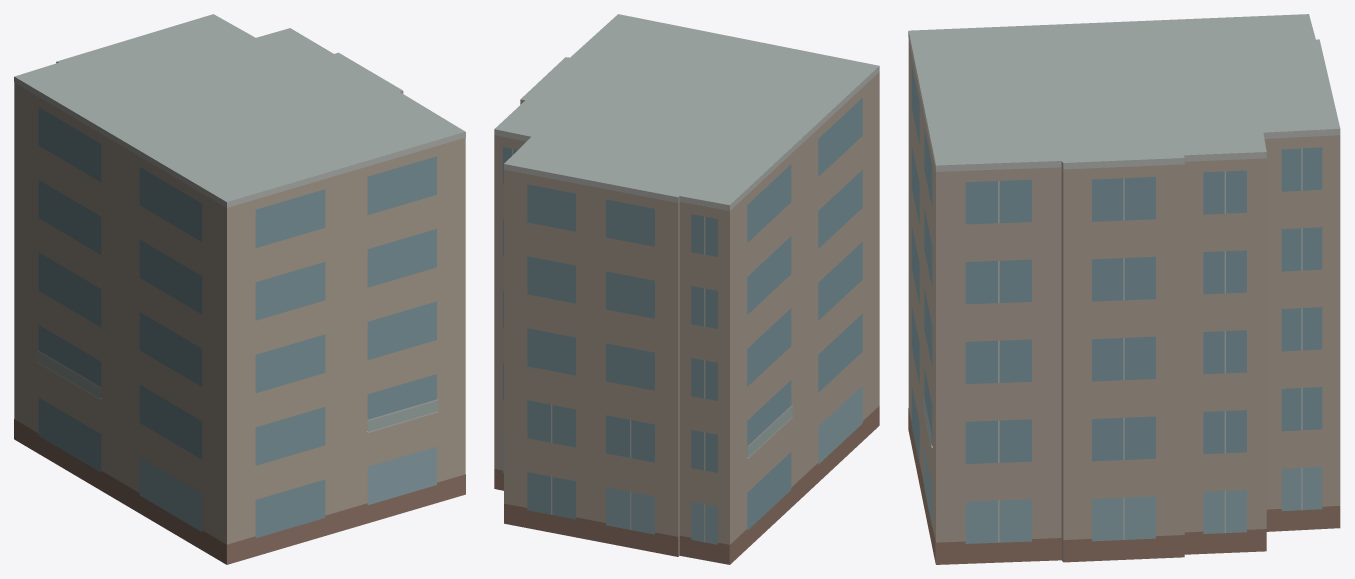
Rendered from survey-upis-32653263.glb.
The picture shows the model from 3 angles, left to right: view 1: azimuth 30°, elevation 25°; view 2: azimuth 150°, elevation 25°; view 3: azimuth 270°, elevation 25°; orthographic projection. The views are drawn at different scales.
Parts seen in each view (by area): view 1: survey-upis-32653263.tmp; view 2: survey-upis-32653263.tmp; view 3: survey-upis-32653263.tmp.
Boxes of the visible parts, <box> form: survey-upis-32653263.tmp: <box>14,14,465,564</box>; survey-upis-32653263.tmp: <box>494,14,879,564</box>; survey-upis-32653263.tmp: <box>908,14,1340,564</box>.
Size of the model in its own units: 12.42 by 15.25 by 14.96.
